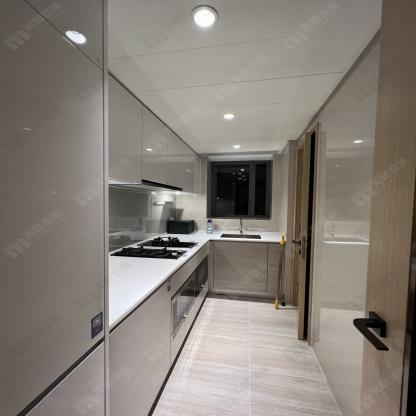Cupboard: (2, 1, 105, 415), (104, 65, 201, 192), (106, 277, 172, 416), (210, 241, 277, 296)
Exhaust Hood: (112, 180, 185, 193)
Faucet: (236, 217, 248, 233)
Sink: (218, 232, 263, 241)
Stove: (107, 232, 207, 262)
